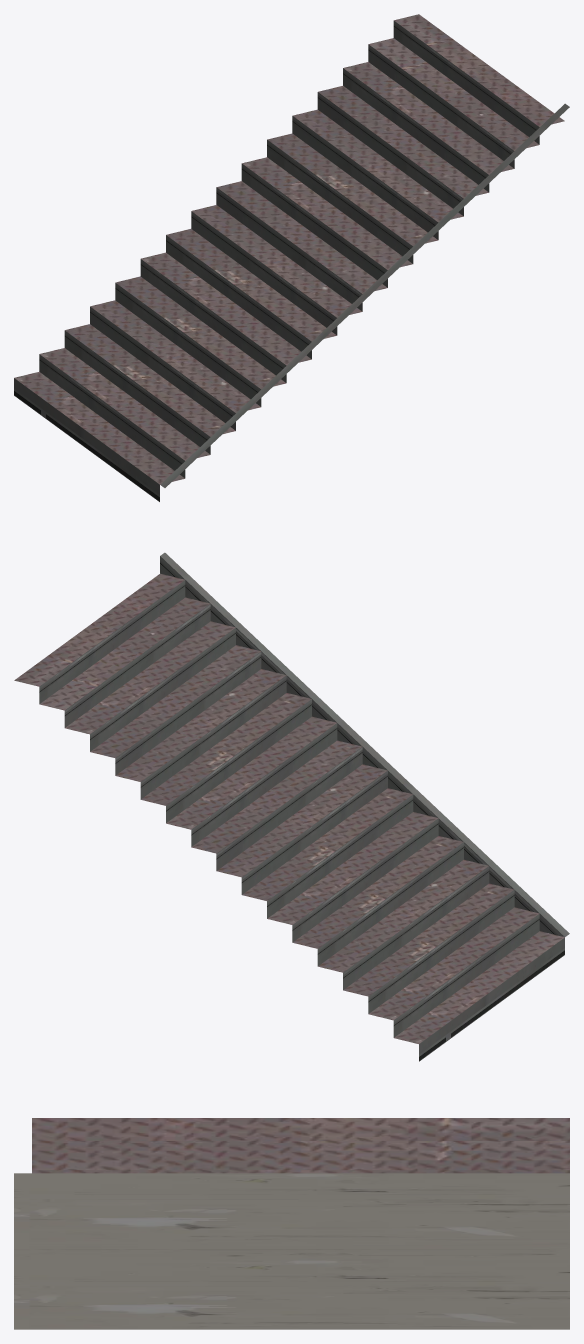
The picture shows the model from 3 angles, top to bottom: view 1: azimuth 30°, elevation 25°; view 2: azimuth 150°, elevation 25°; view 3: azimuth 270°, elevation 25°; orthographic projection. The views are drawn at different scales.
Visible parts, largest first — view 1: body0_model0_lod0_mesh1, body0_model0_lod0_mesh0; view 2: body0_model0_lod0_mesh1, body0_model0_lod0_mesh0; view 3: body0_model0_lod0_mesh2, body0_model0_lod0_mesh1.
Part boxes in pixels (x1,y1,x2,y2): body0_model0_lod0_mesh1: (14, 14, 564, 484); body0_model0_lod0_mesh0: (14, 21, 569, 501); body0_model0_lod0_mesh1: (14, 573, 564, 1043); body0_model0_lod0_mesh0: (39, 552, 569, 1061); body0_model0_lod0_mesh2: (14, 1173, 569, 1329); body0_model0_lod0_mesh1: (32, 1118, 569, 1173).
Bounding box in the file's own units: 192 × 144 × 124.
Materials: 4 (4 with a texture image).
